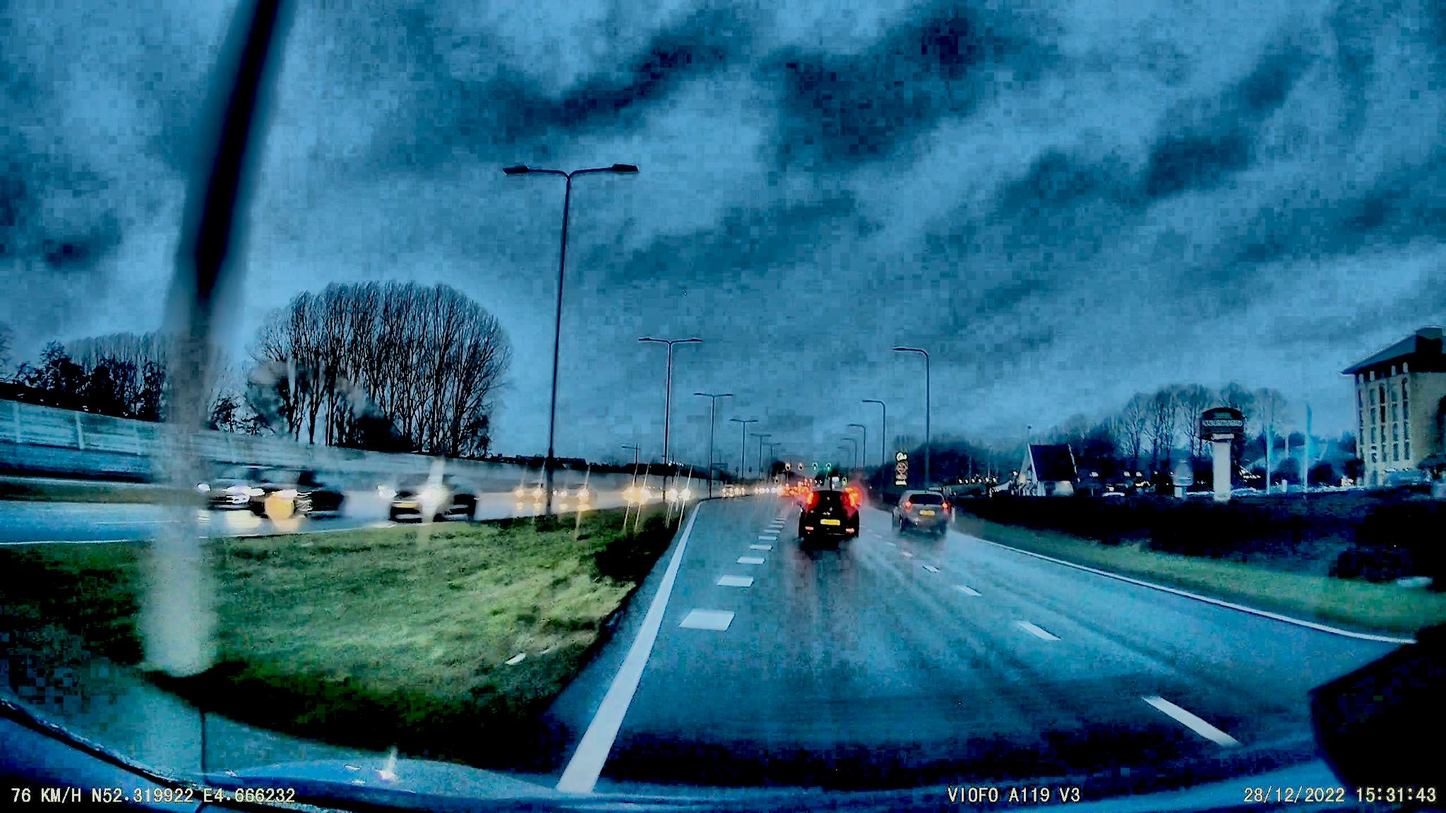Roads: (487, 496, 1401, 813)
